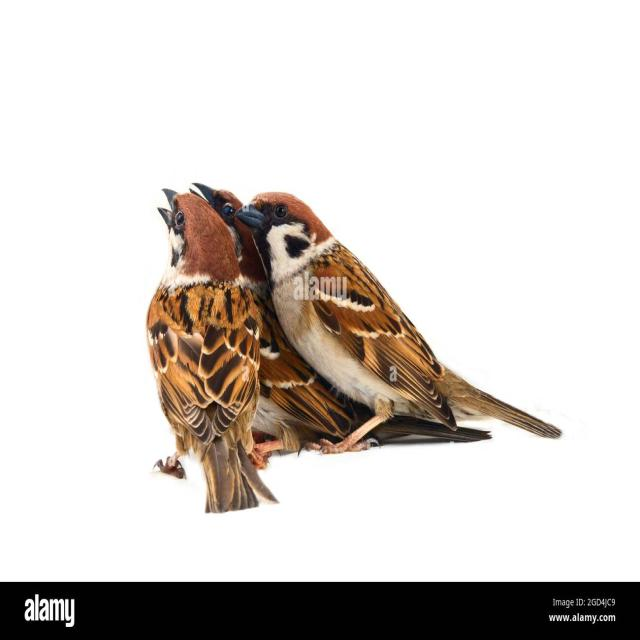bird: (146, 168, 570, 535)
